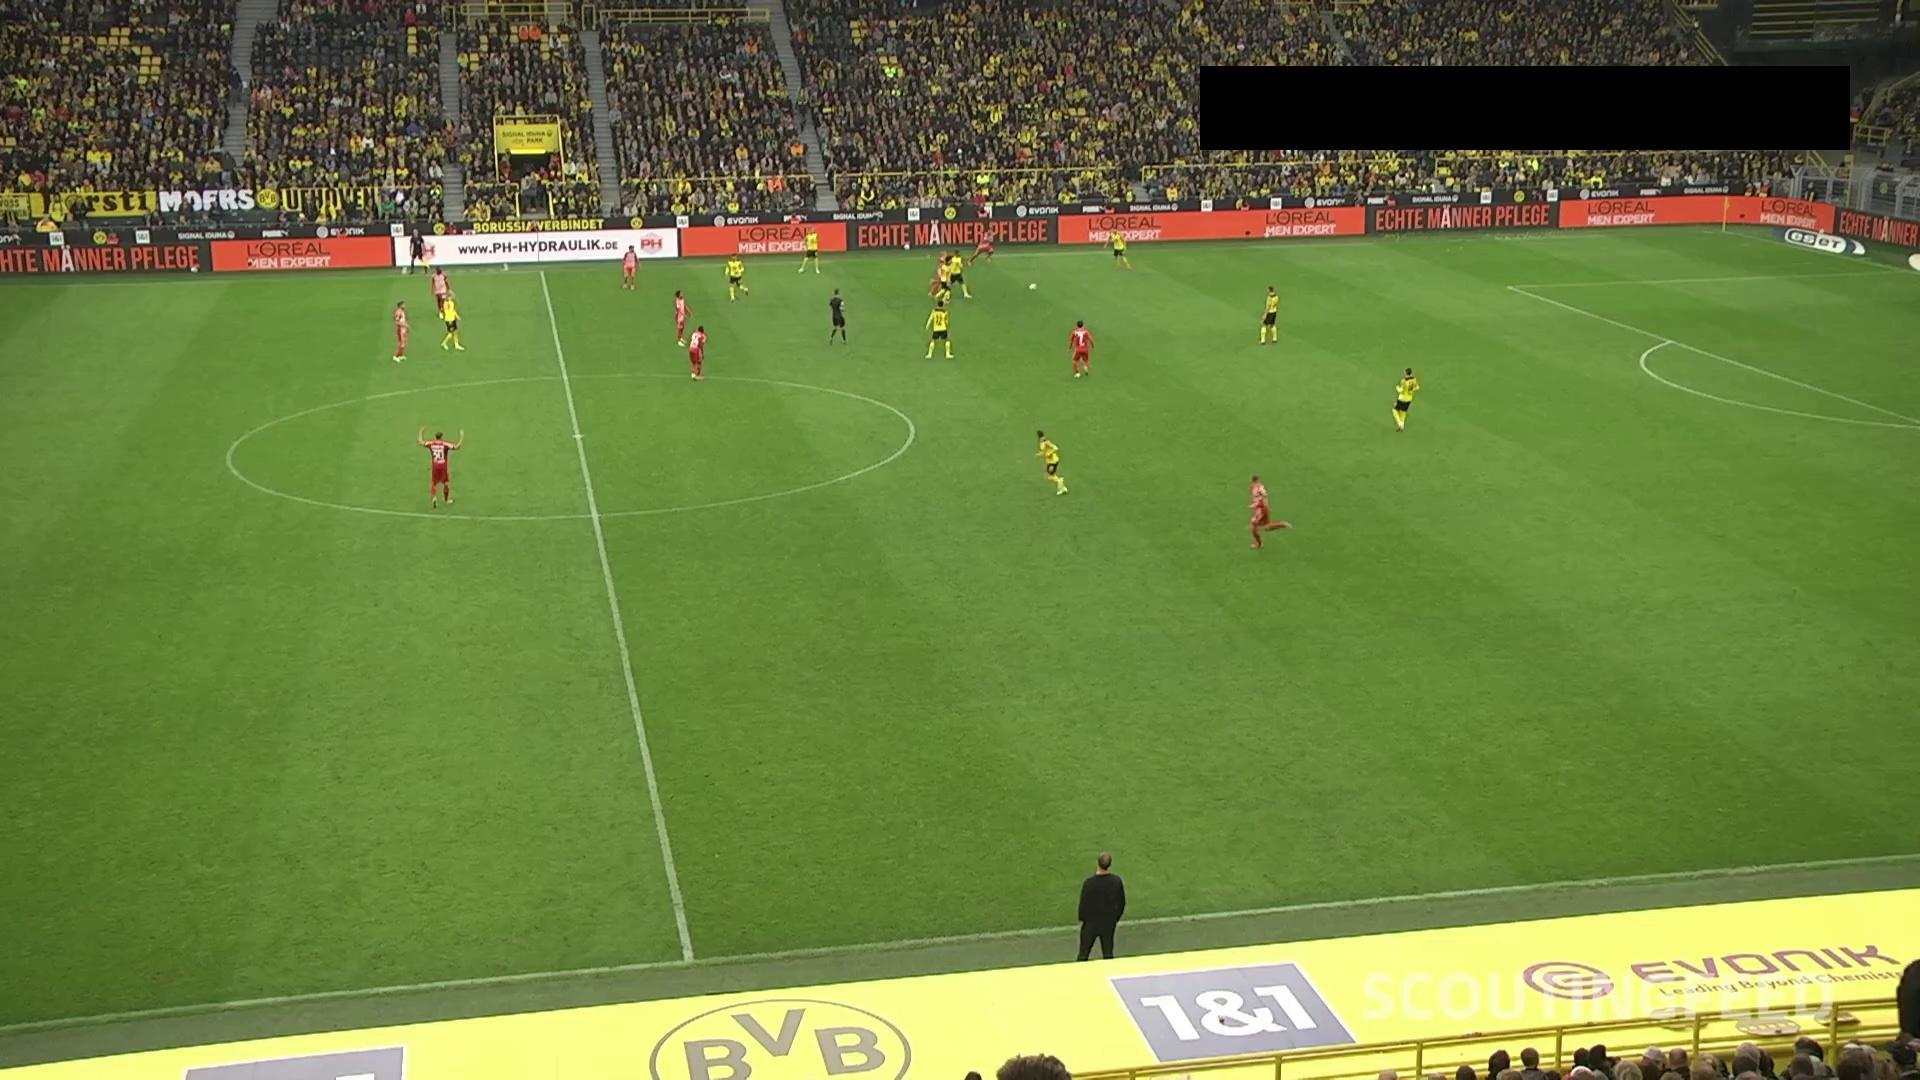Location-of-ball: (1021, 273, 1046, 298)
